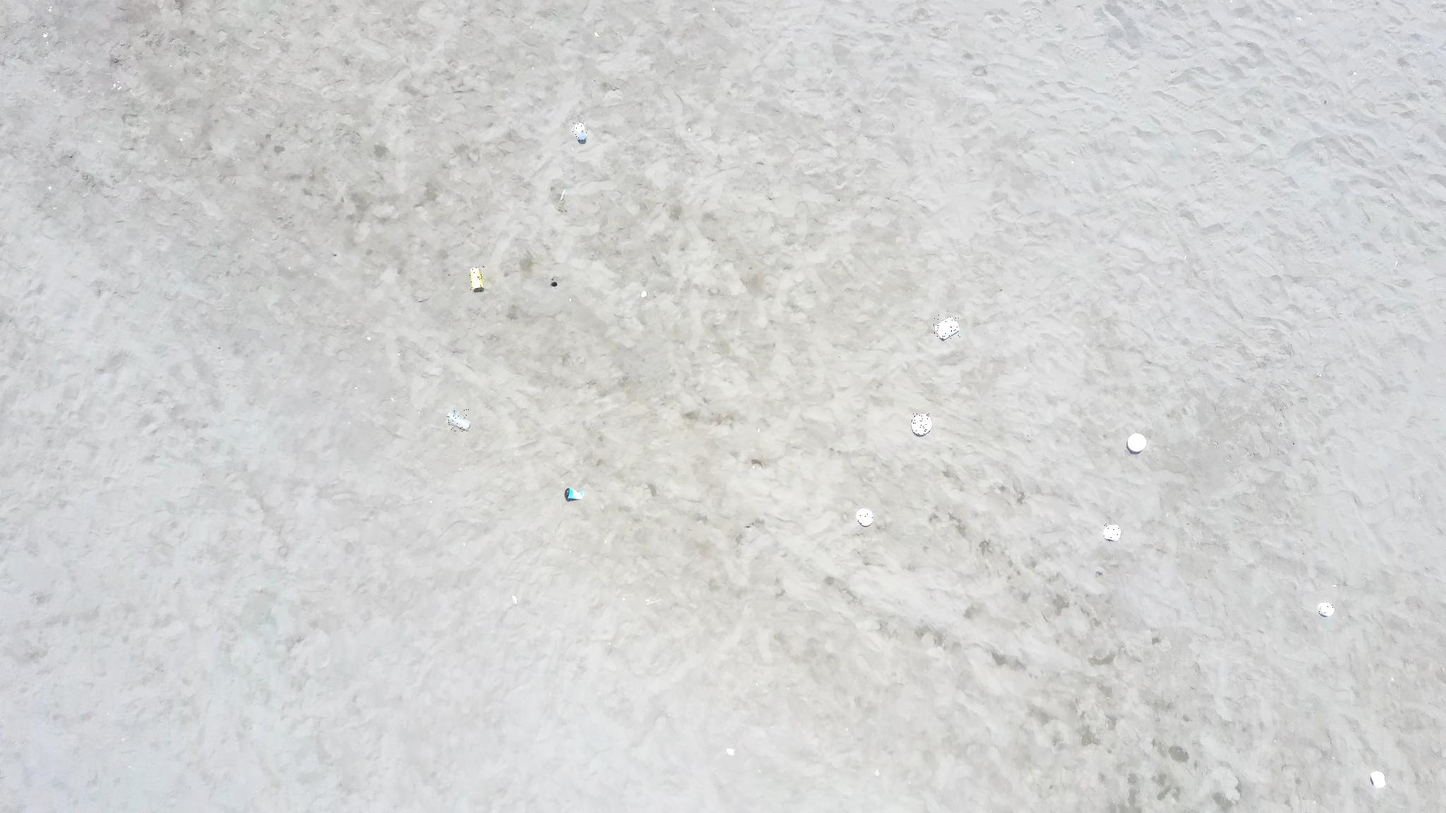Garbage: (934, 317, 958, 339), (446, 409, 469, 430), (910, 413, 930, 436), (1127, 433, 1147, 454), (470, 267, 483, 291), (573, 121, 587, 143), (1102, 524, 1119, 541), (1317, 601, 1333, 618), (856, 510, 873, 526), (1370, 771, 1385, 788), (564, 488, 582, 501), (724, 747, 734, 756), (549, 277, 557, 287), (512, 594, 517, 605), (640, 290, 646, 296)
